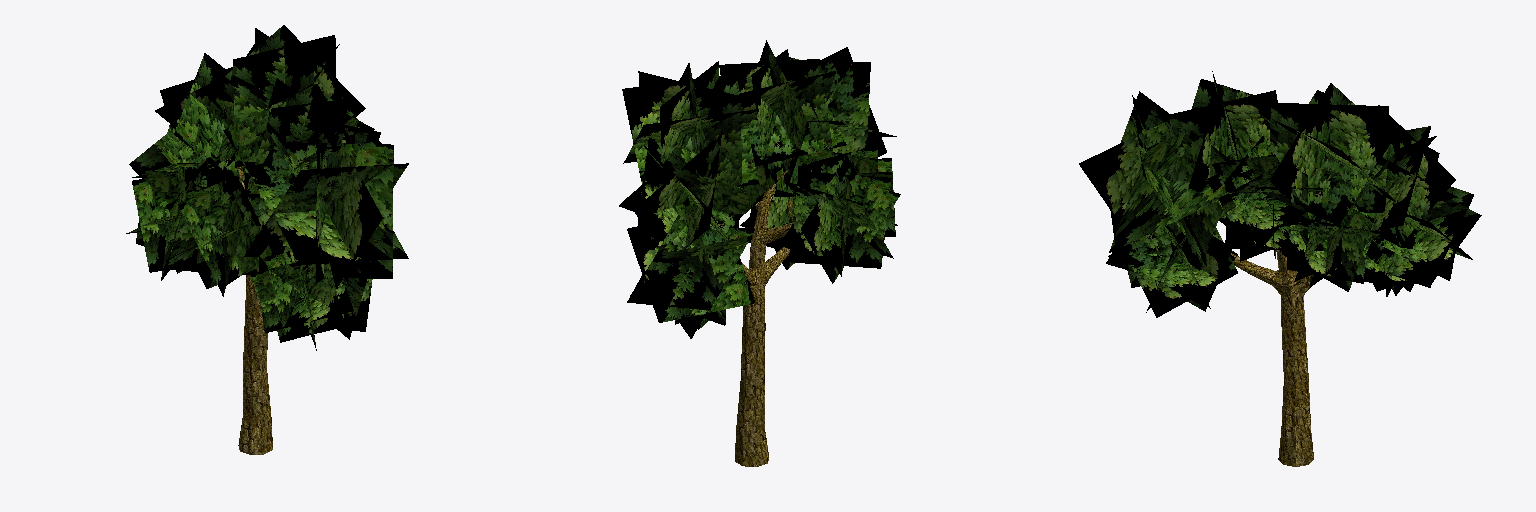
The picture shows the model from 3 angles: view 1: azimuth 30°, elevation 25°; view 2: azimuth 150°, elevation 25°; view 3: azimuth 270°, elevation 25°; orthographic projection.
Parts seen in each view (by area): view 1: Object_ColAlphY_folhagem2_jpg, Object_casca_arvore_jpg; view 2: Object_ColAlphY_folhagem2_jpg, Object_casca_arvore_jpg; view 3: Object_ColAlphY_folhagem2_jpg, Object_casca_arvore_jpg.
Part boxes in pixels (x1,y1,x2,y2): Object_ColAlphY_folhagem2_jpg: (126,25,408,350); Object_casca_arvore_jpg: (238,166,272,454); Object_ColAlphY_folhagem2_jpg: (619,40,900,338); Object_casca_arvore_jpg: (735,166,795,466); Object_ColAlphY_folhagem2_jpg: (1079,71,1481,317); Object_casca_arvore_jpg: (1231,250,1313,466).
Bounding box in the file's own units: 1.52 × 2.5 × 2.29.
Materials: 2 (2 with a texture image).